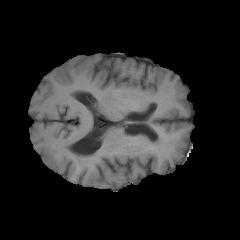glioma: (76, 137, 162, 172)
